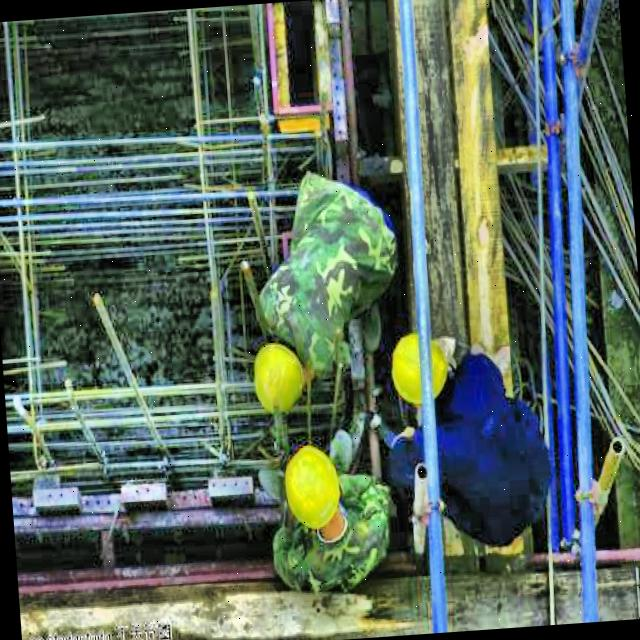helmet: (280, 443, 343, 534), (388, 324, 452, 408), (248, 338, 308, 416)
